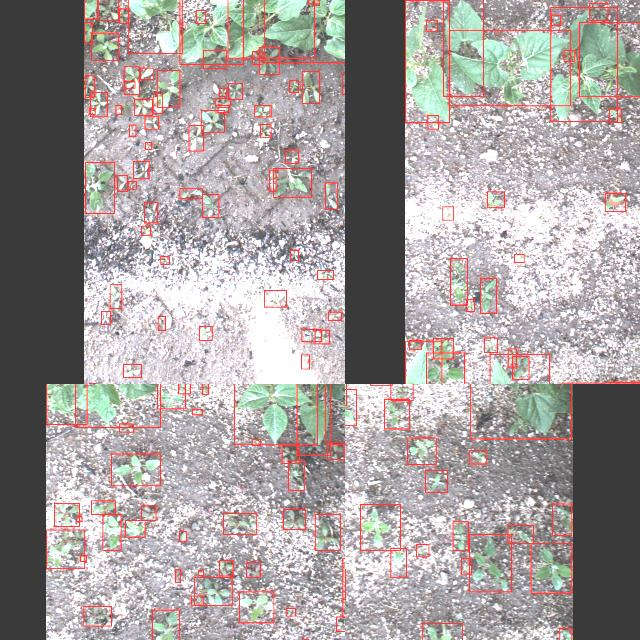crop: (448, 29, 570, 105), (550, 7, 618, 121), (470, 384, 571, 438), (404, 0, 448, 122), (263, 0, 345, 62), (233, 384, 316, 444), (227, 0, 314, 57), (578, 22, 640, 96), (179, 0, 243, 64), (442, 0, 482, 95), (74, 384, 159, 426), (127, 0, 181, 53), (296, 384, 330, 455), (489, 353, 549, 384), (45, 384, 86, 424), (405, 339, 441, 384), (83, 0, 96, 18)
weed: (469, 534, 511, 590), (530, 542, 572, 592), (360, 504, 400, 550), (110, 453, 160, 485), (85, 162, 114, 212), (46, 530, 84, 568), (426, 352, 464, 384), (238, 592, 274, 622), (273, 168, 311, 196), (194, 577, 232, 605), (314, 514, 340, 550), (151, 609, 179, 640), (406, 436, 436, 464), (157, 70, 179, 106), (449, 258, 466, 304), (90, 32, 118, 59), (222, 512, 255, 534), (422, 622, 462, 640), (384, 398, 408, 428), (157, 384, 185, 408), (102, 514, 120, 550), (552, 504, 572, 534), (301, 71, 319, 103), (54, 502, 78, 526), (258, 46, 278, 74), (83, 605, 111, 625), (480, 278, 496, 312), (200, 109, 224, 131), (425, 470, 447, 492), (288, 460, 304, 490), (452, 520, 468, 550), (507, 525, 533, 543), (390, 548, 406, 576), (604, 192, 626, 212), (283, 509, 305, 529), (202, 50, 225, 68), (97, 0, 117, 20), (432, 338, 452, 358), (124, 66, 138, 94), (90, 92, 106, 116), (188, 124, 202, 150), (588, 2, 608, 20), (345, 389, 355, 425), (202, 194, 218, 216), (264, 290, 286, 306), (512, 356, 528, 378), (390, 384, 412, 400), (90, 500, 114, 514), (124, 520, 144, 536), (325, 182, 337, 208), (109, 284, 121, 308), (132, 160, 148, 178), (133, 99, 151, 115), (486, 191, 504, 207), (282, 445, 298, 463), (140, 504, 156, 520), (123, 363, 141, 377), (326, 444, 344, 458), (144, 202, 156, 222), (178, 188, 202, 198), (301, 329, 321, 341), (314, 329, 330, 343), (228, 83, 242, 99), (469, 449, 485, 463), (152, 93, 162, 113), (198, 326, 212, 340), (246, 562, 260, 576), (218, 560, 232, 574), (254, 104, 270, 116), (484, 336, 496, 352), (506, 348, 516, 366), (558, 627, 571, 640), (284, 150, 298, 162), (144, 116, 158, 128), (609, 108, 621, 122), (116, 175, 126, 191), (268, 170, 276, 190), (84, 76, 92, 96), (83, 22, 91, 42), (461, 557, 471, 573), (427, 114, 438, 128), (335, 615, 345, 630), (140, 67, 152, 79), (416, 544, 428, 556), (100, 310, 110, 324), (260, 123, 270, 137), (252, 50, 262, 64), (442, 207, 452, 220), (317, 270, 333, 278), (119, 8, 128, 22), (195, 10, 205, 22), (408, 339, 420, 349), (327, 311, 341, 319), (301, 354, 309, 368), (466, 298, 474, 312), (119, 423, 133, 431), (178, 384, 190, 393), (564, 50, 574, 60), (426, 20, 436, 30), (550, 14, 560, 24), (158, 316, 165, 330), (290, 80, 298, 92), (214, 98, 230, 104), (178, 530, 186, 542), (190, 596, 202, 604), (174, 568, 180, 582), (140, 226, 150, 234), (124, 80, 134, 88), (290, 249, 298, 259), (513, 254, 523, 262), (285, 607, 295, 615), (129, 124, 135, 136), (127, 181, 135, 189), (160, 256, 168, 264), (218, 87, 226, 95), (218, 106, 228, 112), (192, 408, 202, 414), (115, 105, 121, 114), (202, 384, 208, 393), (252, 439, 260, 445), (145, 142, 151, 148), (88, 107, 94, 113), (79, 554, 85, 560), (308, 0, 318, 3), (198, 570, 202, 574), (76, 516, 80, 520), (89, 382, 95, 384), (303, 638, 309, 640)
